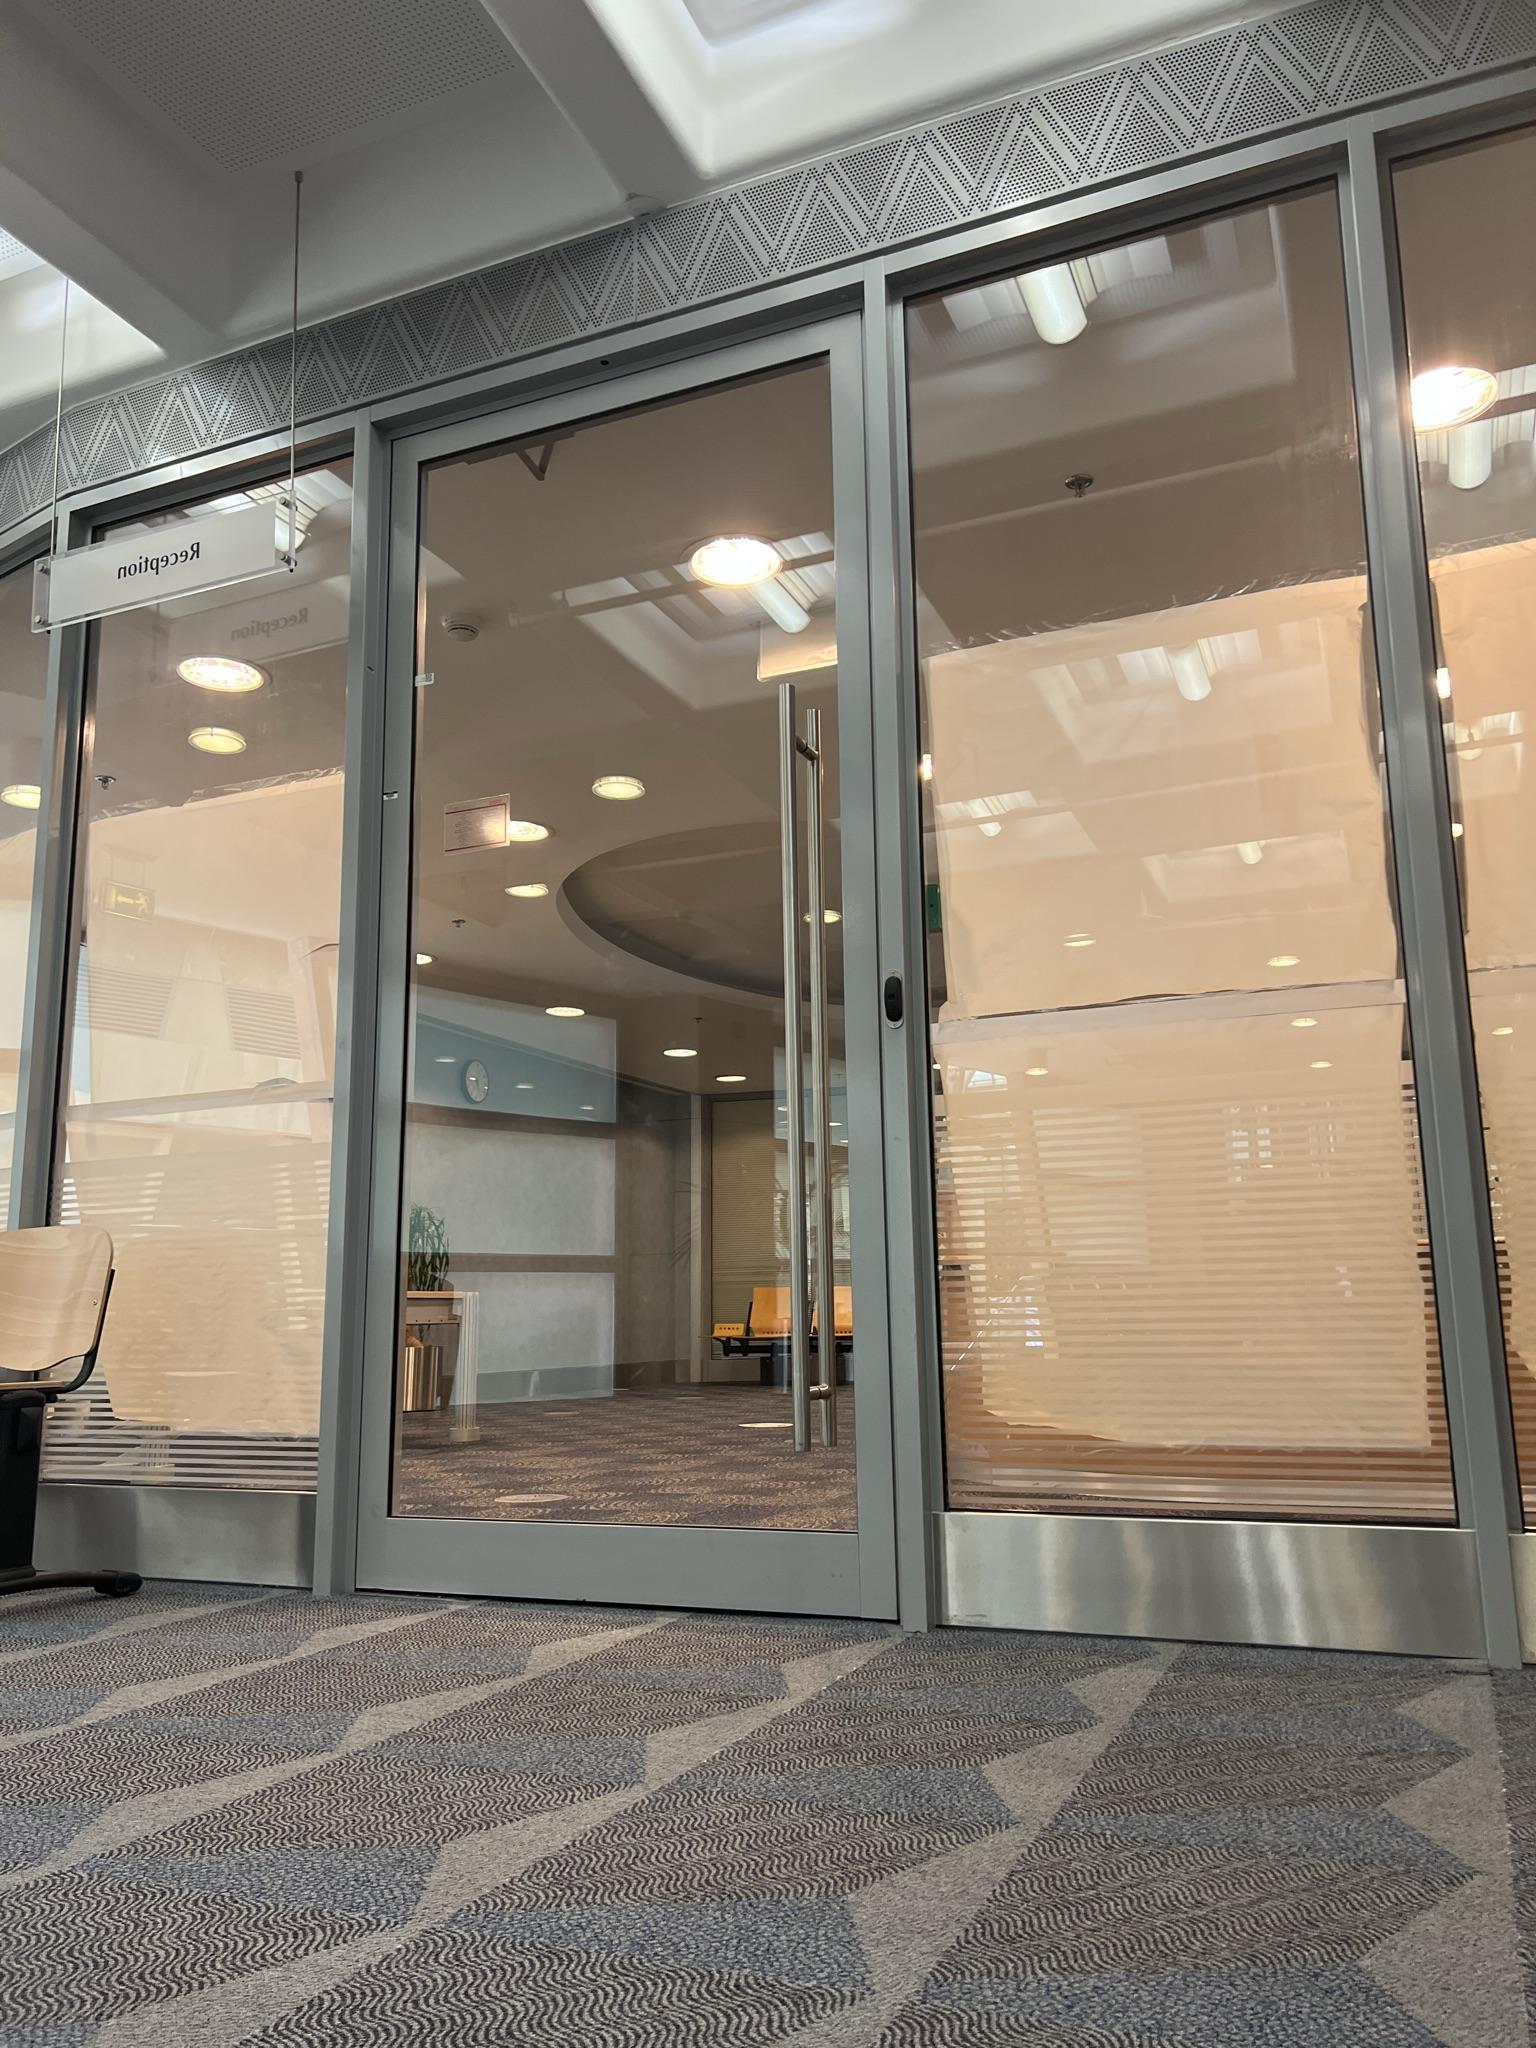door: (363, 281, 854, 1601)
handle: (771, 676, 820, 1471)
